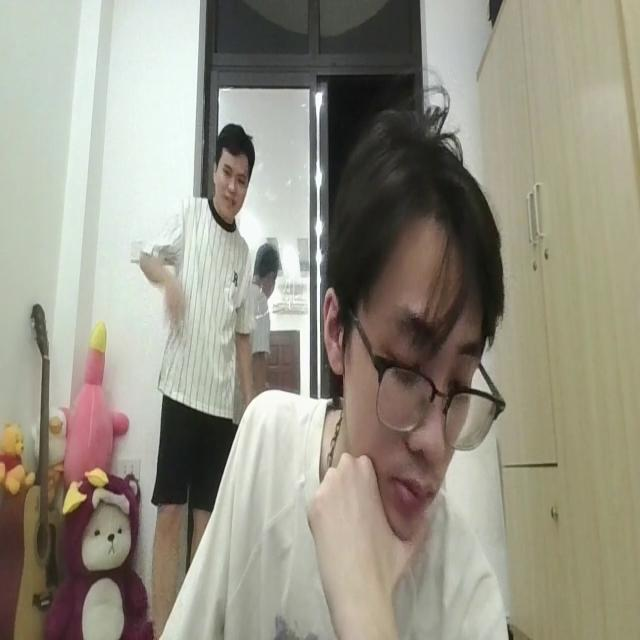extra_person: (139, 118, 255, 413)
student: (153, 113, 508, 640)
